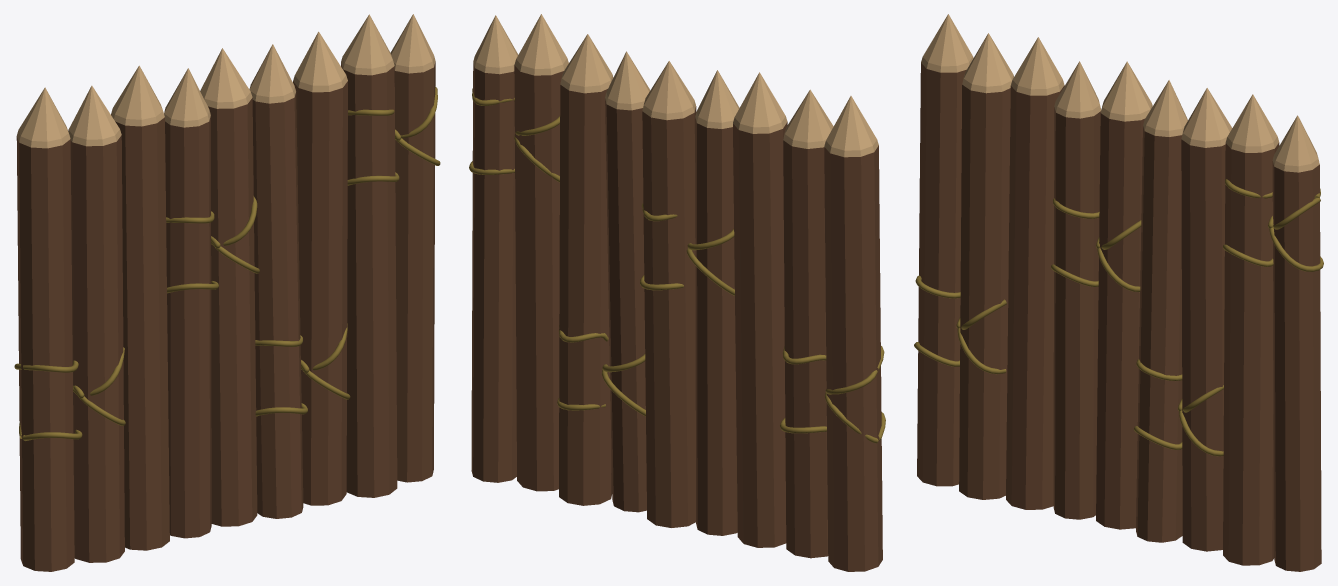
File: Wooden_Wall_Textured.fbx
3 views of the same model, side by side, from view 1: azimuth 30°, elevation 25°; view 2: azimuth 150°, elevation 25°; view 3: azimuth 330°, elevation 25° (orthographic). The views are drawn at different scales.
Visible parts, largest first — view 1: Cylinder, BezierCurve; view 2: Cylinder, BezierCurve; view 3: Cylinder, BezierCurve.
Boxes of the visible parts, <box> form: Cylinder: <box>16,14,435,571</box>; BezierCurve: <box>14,86,440,440</box>; Cylinder: <box>471,14,882,571</box>; BezierCurve: <box>469,88,885,443</box>; Cylinder: <box>917,14,1321,571</box>; BezierCurve: <box>914,179,1323,456</box>.
Size of the model in its own units: 327 by 357 by 53.67.
2 materials, 2 textured.
